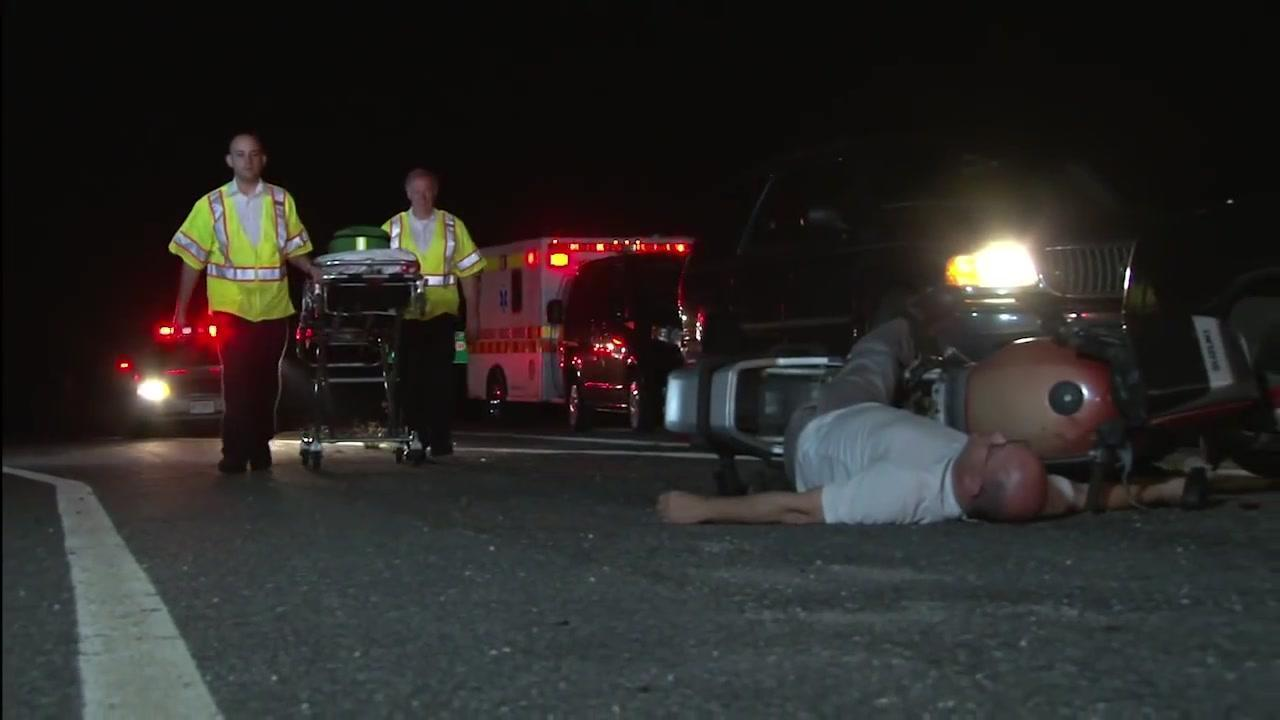Glass: (169, 178, 312, 318), (381, 206, 488, 286)
